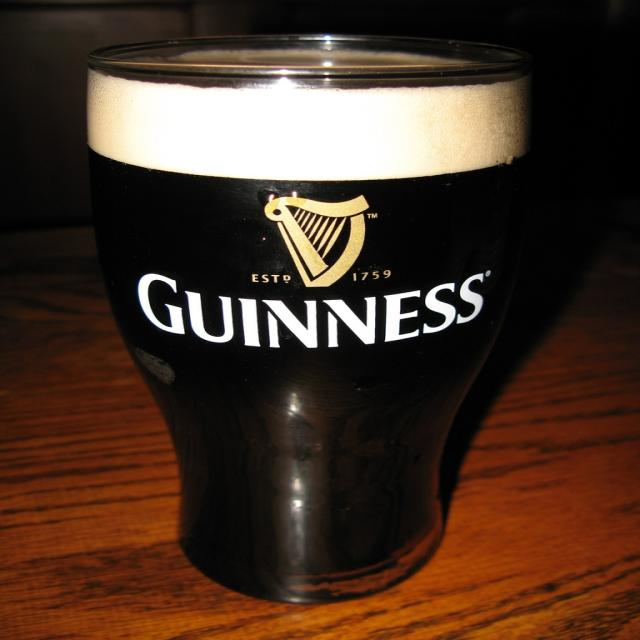guiness: (133, 193, 489, 353)
